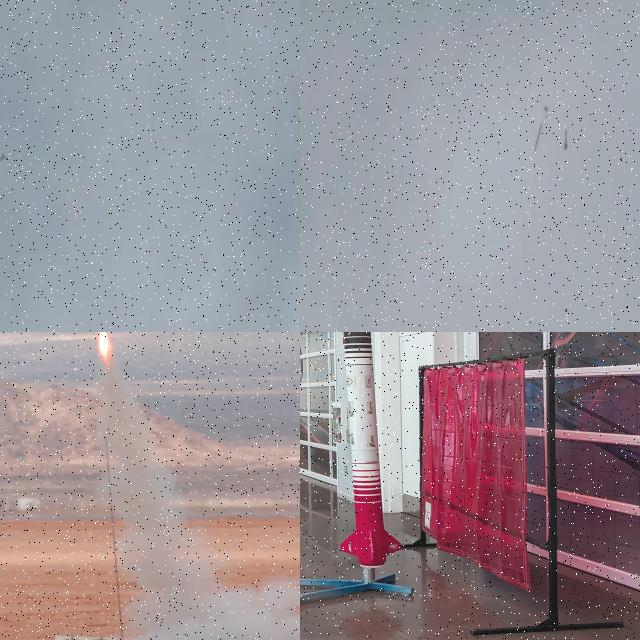Rocket: (340, 332, 401, 568), (564, 128, 568, 150), (0, 152, 5, 168)
